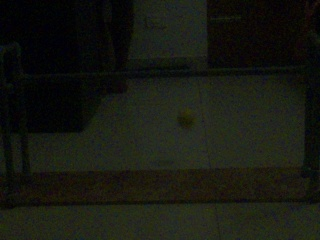ball: (177, 108, 195, 128)
